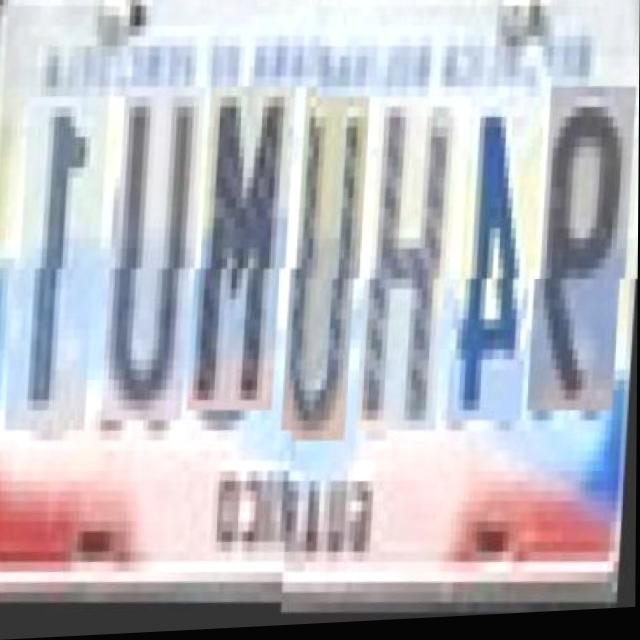1: (11, 111, 105, 451)
4: (452, 101, 542, 430)
9: (533, 90, 634, 421)
h: (362, 101, 457, 441)
m: (191, 100, 292, 431)
u: (107, 101, 202, 441), (286, 101, 366, 450)
